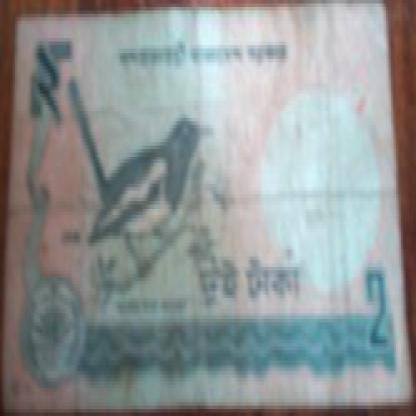two taka: (32, 48, 90, 163), (344, 249, 393, 360)
